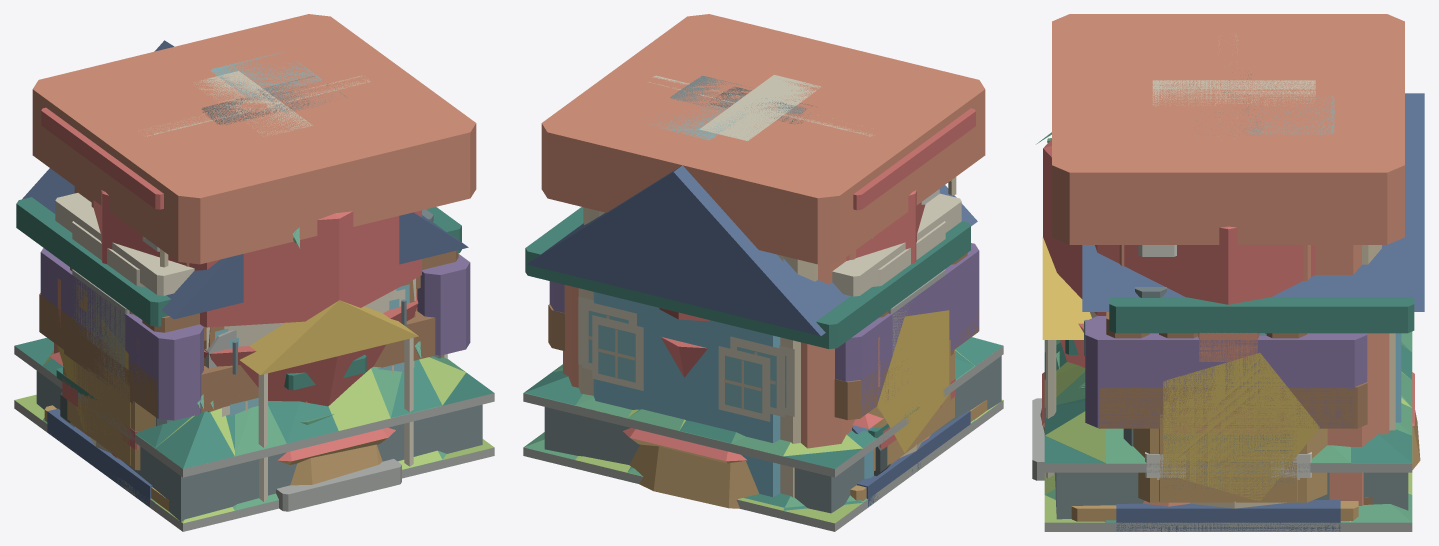
Rendered from toy-town.glb.
3 renders of one model, left to right at view 1: azimuth 30°, elevation 25°; view 2: azimuth 150°, elevation 25°; view 3: azimuth 270°, elevation 25°, orthographic. The views are drawn at different scales.
Visible parts, largest first — view 1: pickup_10_0, pickup_02_0, pickup_49_0, pickup_15_2, pickup_49_2, pickup_28_0, pickup_24_0, pickup_15_0, pickup_17_0, pickup_49_1, pickup_27_0, pickup_18_0 (+19 smaller); view 2: pickup_10_0, pickup_15_0, pickup_15_1, pickup_15_2, pickup_28_0, pickup_49_0, pickup_49_1, pickup_24_0, pickup_00_0, pickup_27_0, pickup_41_1, pickup_13_0 (+17 smaller); view 3: pickup_10_0, pickup_13_0, pickup_15_2, pickup_24_0, pickup_00_0, pickup_49_0, pickup_15_0, pickup_02_0, pickup_17_0, pickup_14_0, pickup_19_0, pickup_49_2 (+14 smaller).
Part boxes in pixels (x1=…): pickup_10_0: x1=32, y1=14, x2=476, y2=412; pickup_02_0: x1=93, y1=190, x2=421, y2=327; pickup_49_0: x1=14, y1=346, x2=494, y2=521; pickup_15_2: x1=16, y1=197, x2=461, y2=501; pickup_49_2: x1=14, y1=338, x2=494, y2=520; pickup_28_0: x1=79, y1=34, x2=419, y2=311; pickup_24_0: x1=40, y1=186, x2=470, y2=420; pickup_15_0: x1=22, y1=40, x2=468, y2=511; pickup_17_0: x1=39, y1=209, x2=458, y2=426; pickup_49_1: x1=14, y1=346, x2=482, y2=520; pickup_27_0: x1=41, y1=107, x2=236, y2=426; pickup_18_0: x1=204, y1=289, x2=418, y2=406; pickup_10_0: x1=541, y1=14, x2=985, y2=264; pickup_15_0: x1=526, y1=165, x2=977, y2=497; pickup_15_1: x1=592, y1=292, x2=780, y2=496; pickup_15_2: x1=525, y1=207, x2=970, y2=448; pickup_28_0: x1=587, y1=39, x2=932, y2=177; pickup_49_0: x1=523, y1=346, x2=1003, y2=498; pickup_49_1: x1=544, y1=337, x2=1003, y2=513; pickup_24_0: x1=549, y1=207, x2=979, y2=415; pickup_00_0: x1=877, y1=310, x2=949, y2=452; pickup_27_0: x1=832, y1=108, x2=975, y2=476; pickup_41_1: x1=629, y1=444, x2=759, y2=508; pickup_13_0: x1=604, y1=56, x2=909, y2=259; pickup_10_0: x1=1052, y1=14, x2=1404, y2=244; pickup_13_0: x1=1159, y1=26, x2=1331, y2=280; pickup_15_2: x1=1042, y1=237, x2=1414, y2=505; pickup_24_0: x1=1085, y1=245, x2=1367, y2=427; pickup_00_0: x1=1163, y1=353, x2=1319, y2=500; pickup_49_0: x1=1044, y1=331, x2=1412, y2=518; pickup_15_0: x1=1032, y1=93, x2=1424, y2=480; pickup_02_0: x1=1043, y1=139, x2=1315, y2=315; pickup_17_0: x1=1098, y1=287, x2=1367, y2=446; pickup_14_0: x1=1157, y1=414, x2=1299, y2=501; pickup_19_0: x1=1116, y1=500, x2=1340, y2=531; pickup_49_2: x1=1044, y1=340, x2=1412, y2=519.
Size of the model in its own units: 1 by 1 by 1.
